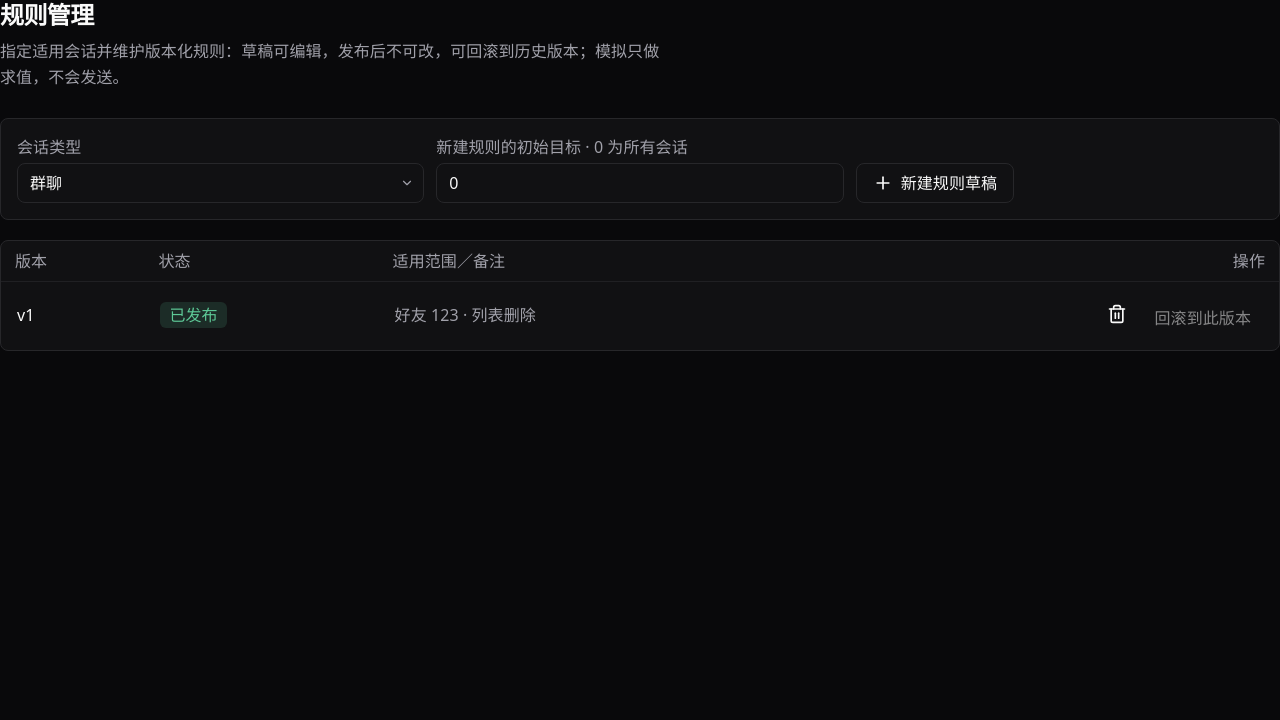
Test: deletes from the version list without opening the editor
Click the button named "删除规则 v1" at (1116, 314), box [1090,294,1142,334]
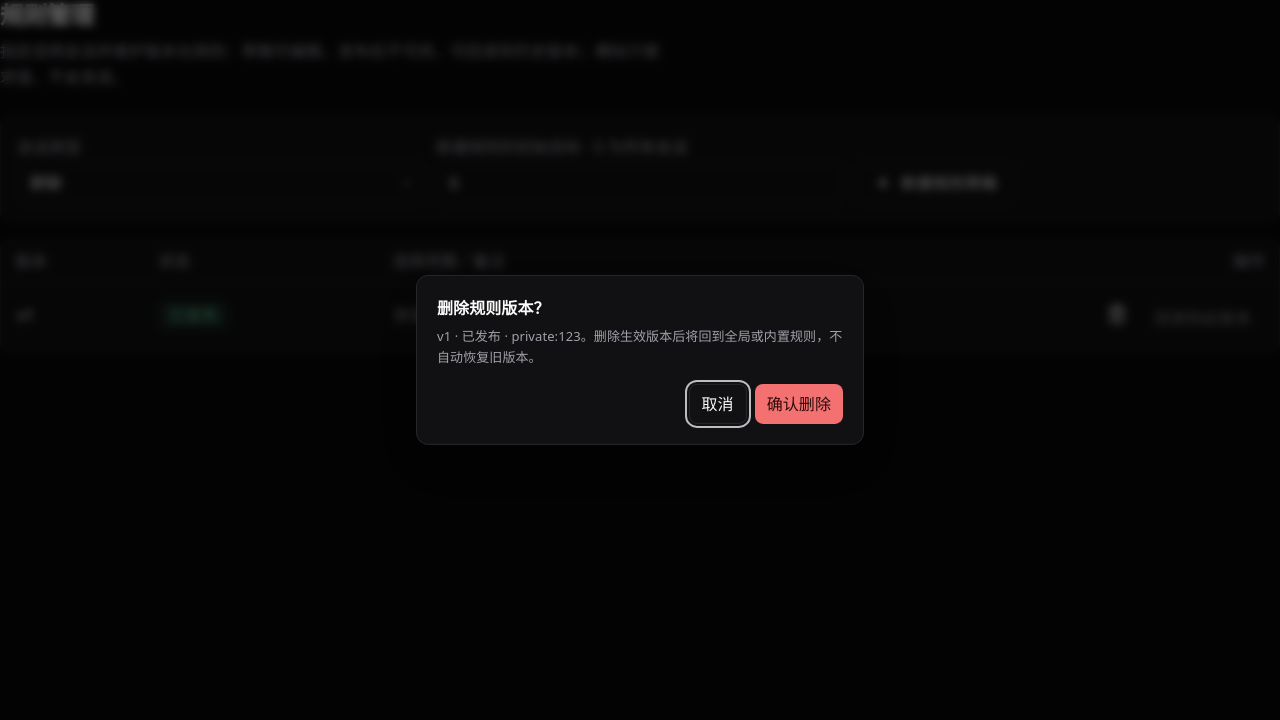
Click the button "确认删除" at (799, 404), box [755,384,843,424]
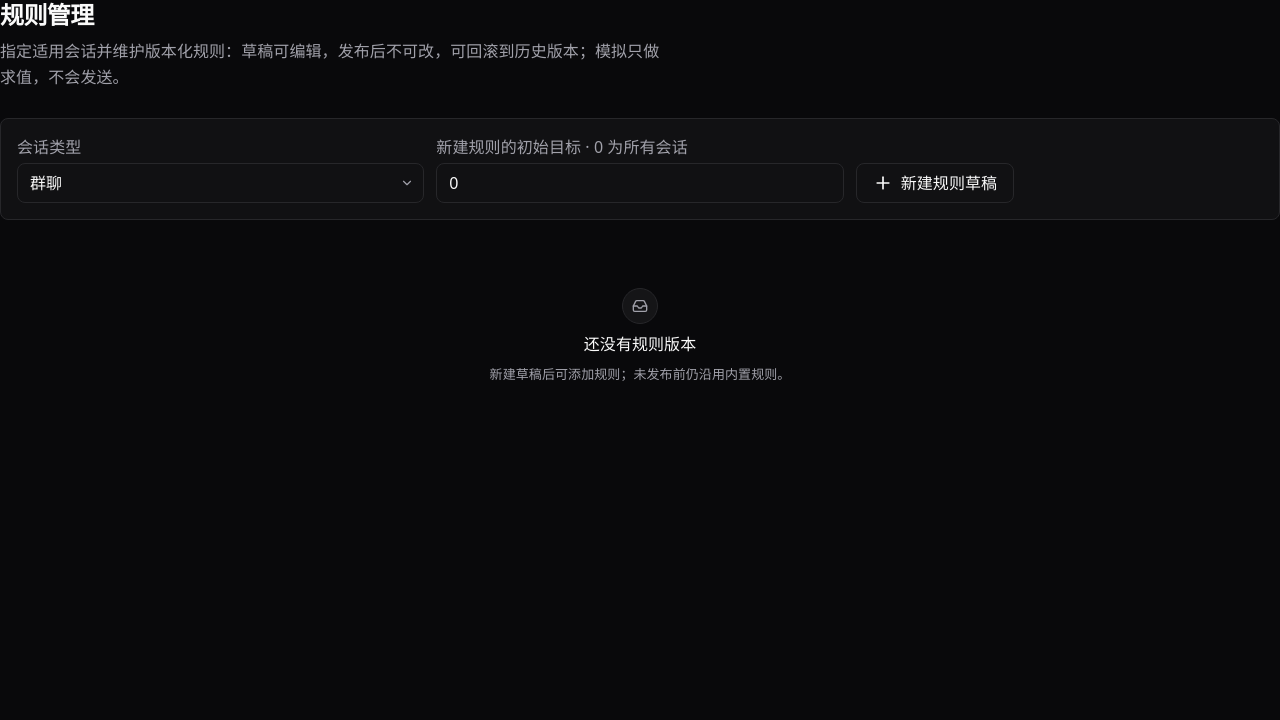
Now the text "还没有规则版本" is shown, box [584,332,696,356]
